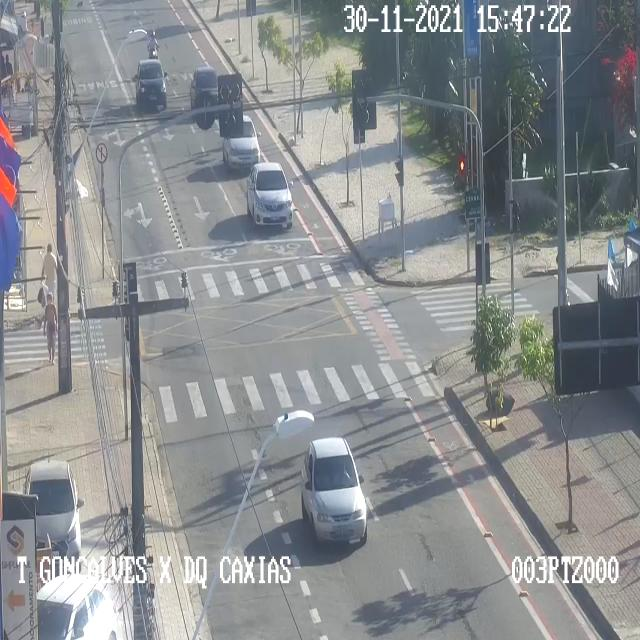Car: (301, 436, 366, 542), (24, 460, 80, 570), (36, 573, 116, 639), (246, 162, 292, 226), (222, 114, 260, 169), (190, 66, 222, 114), (136, 58, 166, 105)
Motorcycle: (147, 30, 159, 60)
